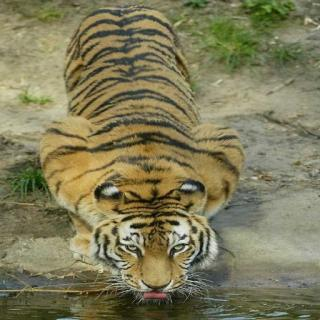Tiger: (31, 1, 256, 305)
